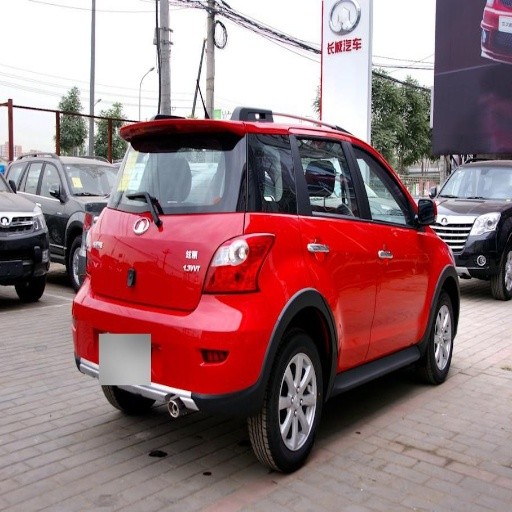back_bumper: (78, 291, 283, 413)
back_right_door: (262, 129, 384, 362)
trunk: (91, 210, 241, 312)
